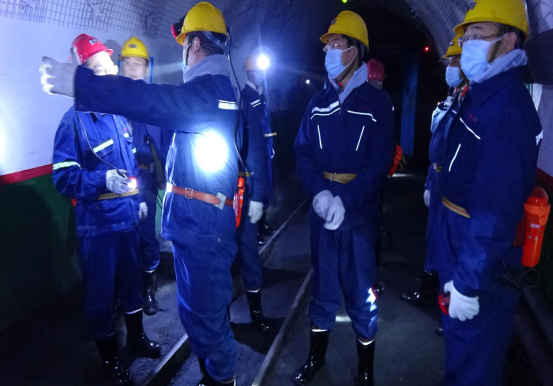helmet: (453, 1, 540, 72), (311, 12, 389, 84), (167, 3, 241, 62)
